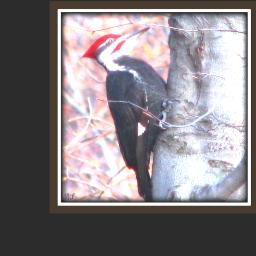Woodpecker: (81, 27, 181, 203)
